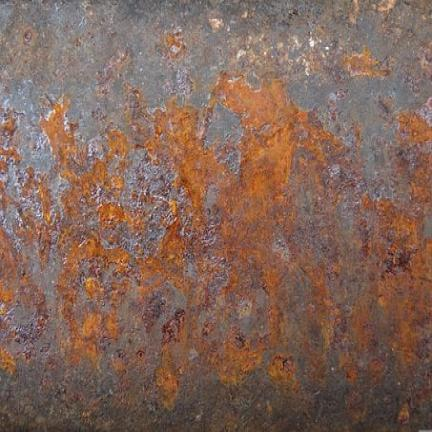karat: (13, 75, 353, 402)
